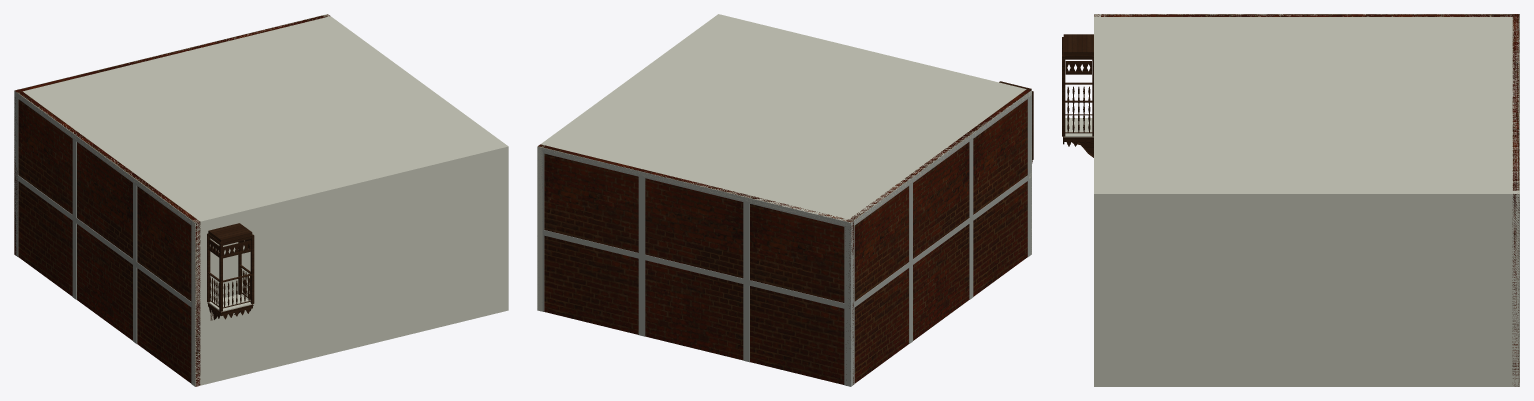
File: building.glb
3 renders of one model, left to right at view 1: azimuth 30°, elevation 25°; view 2: azimuth 150°, elevation 25°; view 3: azimuth 270°, elevation 25°, orthographic. The views are drawn at different scales.
Visible parts, largest first — view 1: roof/house:0/roof_slab#0001, house:0/edge0/z0/house:0/edge0/z0/wall_0_0, house:0/edge3/z0/house:0/edge3/z0/wall_0_0, house:0/edge2/z0/house:0/edge2/z0/wall_0_0, house:0/edge3/z0/house:0/edge3/z0/beam_0_0, house:0/edge3/z0/house:0/edge3/z0/beam_1_0, house:0/edge1/z0/house:0/edge1/z0/wall_0_0, balcony/sample/balcony_cover#0001; view 2: roof/house:0/roof_slab#0001, house:0/edge2/z0/house:0/edge2/z0/wall_0_0, house:0/edge3/z0/house:0/edge3/z0/wall_0_0, house:0/edge1/z0/house:0/edge1/z0/wall_0_0, house:0/edge2/z0/house:0/edge2/z0/beam_0_0, house:0/edge2/z0/house:0/edge2/z0/beam_1_0, house:0/edge3/z0/house:0/edge3/z0/beam_0_0, house:0/edge0/z0/house:0/edge0/z0/wall_0_0, house:0/edge3/z0/house:0/edge3/z0/beam_1_0, house:0/edge2/z0/house:0/edge2/z0/column_2_0, house:0/edge2/z0/house:0/edge2/z0/column_1_1, house:0/edge2/z0/house:0/edge2/z0/column_2_1 (+3 smaller); view 3: house:0/edge1/z0/house:0/edge1/z0/wall_0_0, roof/house:0/roof_slab#0001, house:0/edge0/z0/house:0/edge0/z0/wall_0_0, house:0/edge2/z0/house:0/edge2/z0/wall_0_0, house:0/edge3/z0/house:0/edge3/z0/wall_0_0, balcony/sample/balcony_cover#0001, balcony/sample/balcony_platform#0001.
Part boxes in pixels (<box>): roof/house:0/roof_slab#0001: <box>16,15,507,225</box>; house:0/edge0/z0/house:0/edge0/z0/wall_0_0: <box>192,144,508,386</box>; house:0/edge3/z0/house:0/edge3/z0/wall_0_0: <box>17,89,200,386</box>; house:0/edge2/z0/house:0/edge2/z0/wall_0_0: <box>14,14,329,255</box>; house:0/edge3/z0/house:0/edge3/z0/beam_0_0: <box>14,173,195,309</box>; house:0/edge3/z0/house:0/edge3/z0/beam_1_0: <box>14,91,195,228</box>; house:0/edge1/z0/house:0/edge1/z0/wall_0_0: <box>323,14,508,311</box>; balcony/sample/balcony_cover#0001: <box>208,223,252,242</box>; roof/house:0/roof_slab#0001: <box>540,14,1031,225</box>; house:0/edge2/z0/house:0/edge2/z0/wall_0_0: <box>538,144,853,384</box>; house:0/edge3/z0/house:0/edge3/z0/wall_0_0: <box>846,89,1030,383</box>; house:0/edge1/z0/house:0/edge1/z0/wall_0_0: <box>537,14,721,311</box>; house:0/edge2/z0/house:0/edge2/z0/beam_0_0: <box>542,230,851,310</box>; house:0/edge2/z0/house:0/edge2/z0/beam_1_0: <box>538,146,851,228</box>; house:0/edge3/z0/house:0/edge3/z0/beam_0_0: <box>850,172,1031,309</box>; house:0/edge0/z0/house:0/edge0/z0/wall_0_0: <box>716,14,1031,253</box>; house:0/edge3/z0/house:0/edge3/z0/beam_1_0: <box>850,90,1031,227</box>; house:0/edge2/z0/house:0/edge2/z0/column_2_0: <box>638,177,645,254</box>; house:0/edge2/z0/house:0/edge2/z0/column_1_1: <box>844,227,851,304</box>; house:0/edge2/z0/house:0/edge2/z0/column_2_1: <box>638,259,645,336</box>; house:0/edge1/z0/house:0/edge1/z0/wall_0_0: <box>1094,191,1519,386</box>; roof/house:0/roof_slab#0001: <box>1094,14,1519,198</box>; house:0/edge0/z0/house:0/edge0/z0/wall_0_0: <box>1094,14,1100,386</box>; house:0/edge2/z0/house:0/edge2/z0/wall_0_0: <box>1512,14,1519,386</box>; house:0/edge3/z0/house:0/edge3/z0/wall_0_0: <box>1094,14,1519,16</box>; balcony/sample/balcony_cover#0001: <box>1063,34,1093,55</box>; balcony/sample/balcony_platform#0001: <box>1064,118,1093,137</box>.
Size of the model in its own units: 12 by 6 by 12.89.
4 materials, 2 textured.
